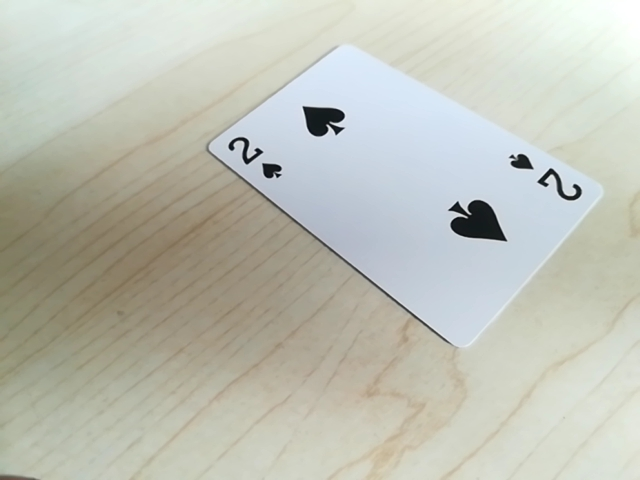ht 2: (501, 149, 586, 208), (216, 128, 288, 186)
